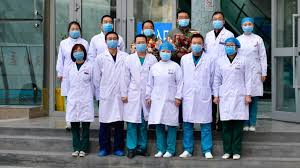mask: (70, 43, 87, 65), (189, 32, 204, 56), (223, 36, 238, 57), (67, 19, 82, 39), (211, 11, 225, 30), (105, 31, 118, 51), (239, 18, 255, 34), (135, 34, 147, 55), (177, 9, 190, 28), (99, 15, 114, 31), (159, 43, 172, 61), (141, 19, 154, 33)
